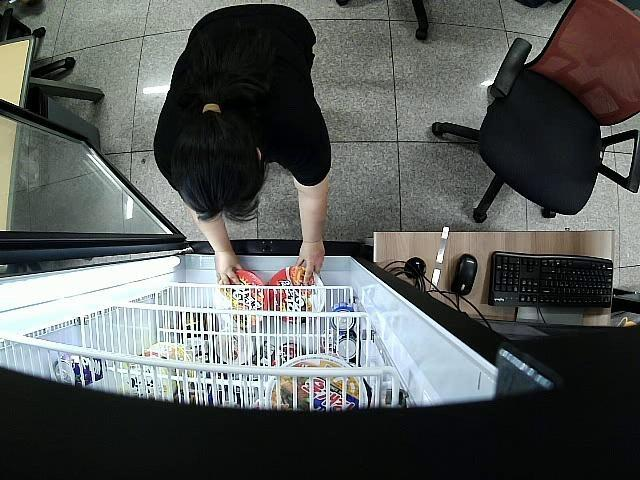10_wangTtukkeong: (212, 271, 264, 329), (269, 272, 323, 323)
